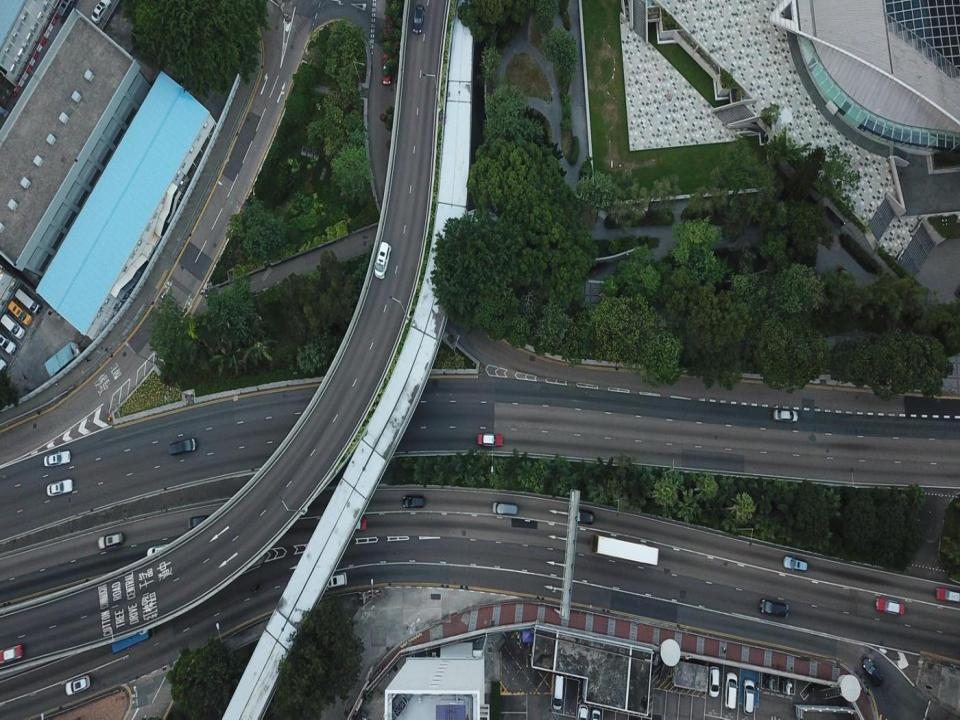bus: (592, 532, 660, 566), (114, 615, 153, 656)
car: (860, 655, 882, 686), (876, 594, 905, 615), (64, 674, 92, 695), (91, 0, 112, 27), (42, 451, 71, 468), (47, 479, 72, 498), (782, 556, 808, 573), (708, 664, 721, 698), (0, 644, 23, 663), (380, 53, 393, 86), (403, 492, 425, 510), (936, 587, 960, 603), (772, 409, 798, 423), (413, 5, 424, 38), (476, 432, 503, 445), (341, 519, 365, 533), (577, 703, 588, 719), (590, 705, 602, 719)
van: (13, 286, 40, 314), (759, 596, 789, 620), (373, 240, 391, 280), (6, 299, 32, 326), (1, 312, 25, 340), (725, 670, 738, 712), (167, 438, 196, 456), (315, 573, 348, 588), (742, 676, 754, 717), (567, 507, 594, 525), (96, 533, 126, 549), (552, 674, 565, 709), (186, 514, 214, 528), (492, 502, 520, 515), (146, 546, 176, 558), (0, 335, 16, 354), (0, 360, 12, 372)
